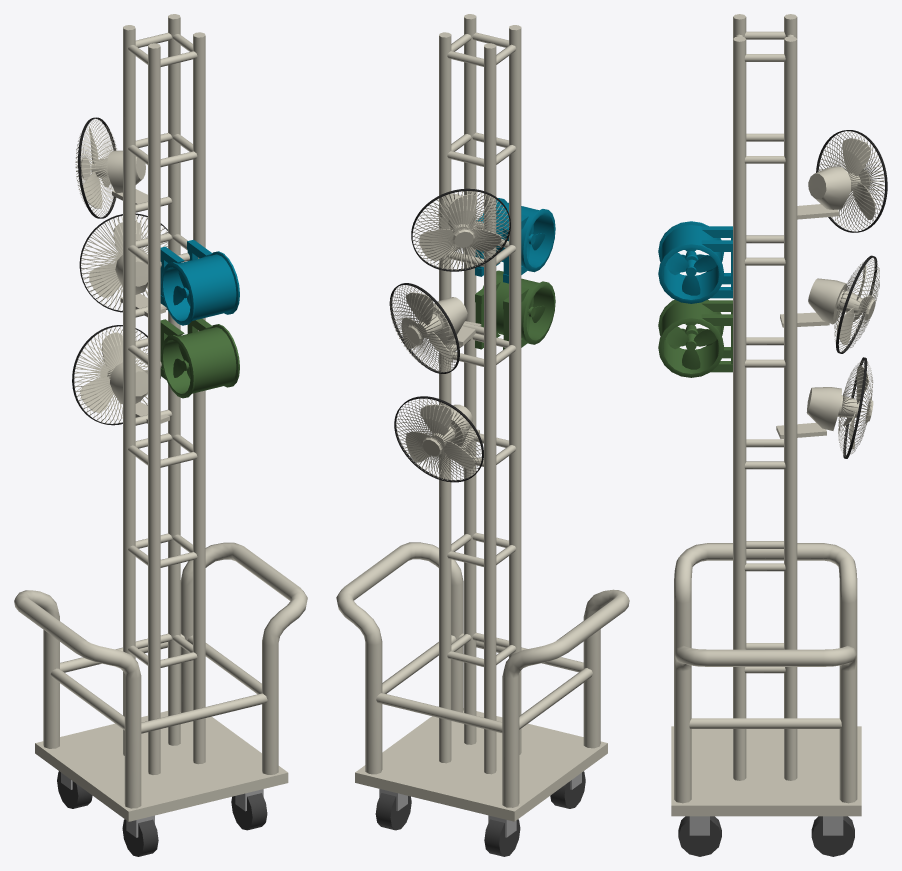
File: z_fengshan_02.fbx
3 renders of one model, left to right at view 1: azimuth 30°, elevation 25°; view 2: azimuth 150°, elevation 25°; view 3: azimuth 270°, elevation 25°, orthographic.
Parts seen in each view (by area): view 1: fengshan_02; view 2: fengshan_02; view 3: fengshan_02.
Boxes of the visible parts, box(x1,y1,x2,y2) form: fengshan_02: box(14, 14, 307, 856); fengshan_02: box(336, 14, 629, 856); fengshan_02: box(658, 14, 887, 856).
Bounding box in the file's own units: 129 × 422 × 110.
